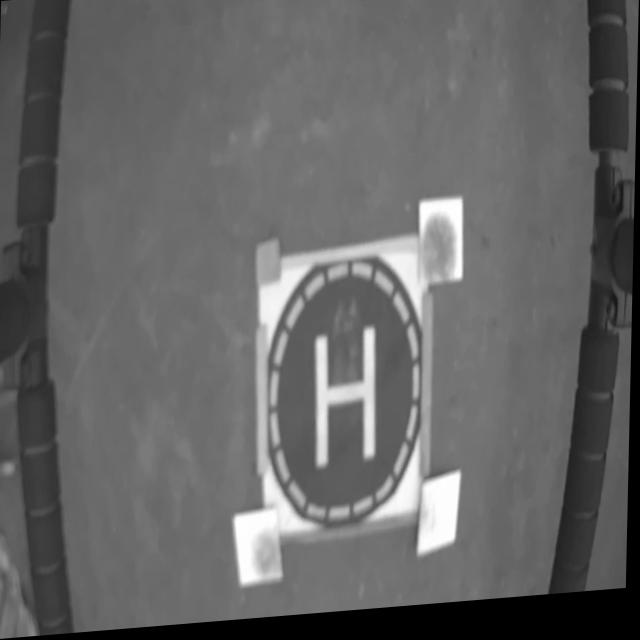Helipad: (313, 327, 377, 477)
